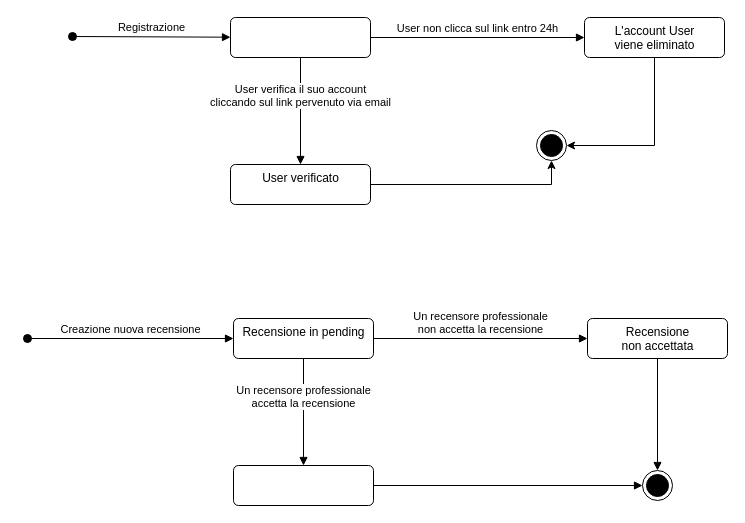
The diagram is 745 pixels wide and 523 high, and some of its shapes have lost their labels. The box of each missing label's shape, as (x1, y1, x2, y2) in pixels:
Recensione accettata: (232, 464, 374, 506)
User non verificato: (230, 16, 370, 58)
